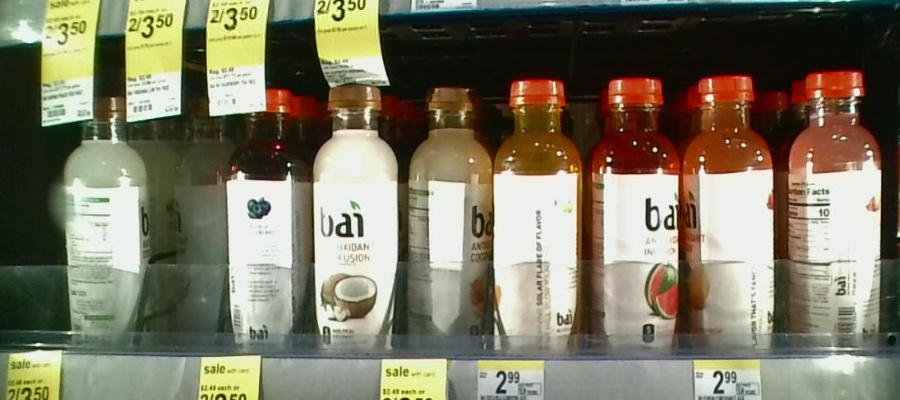bottle: (787, 65, 890, 354), (685, 70, 786, 354), (309, 86, 407, 356), (587, 70, 680, 354), (495, 73, 585, 356), (62, 86, 150, 353), (409, 76, 491, 355), (231, 86, 306, 355), (170, 97, 227, 339)
